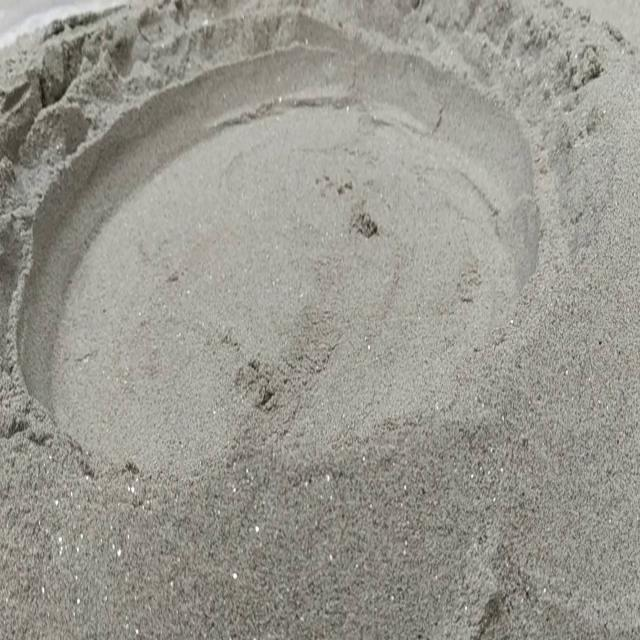C40: (5, 1, 530, 459)
